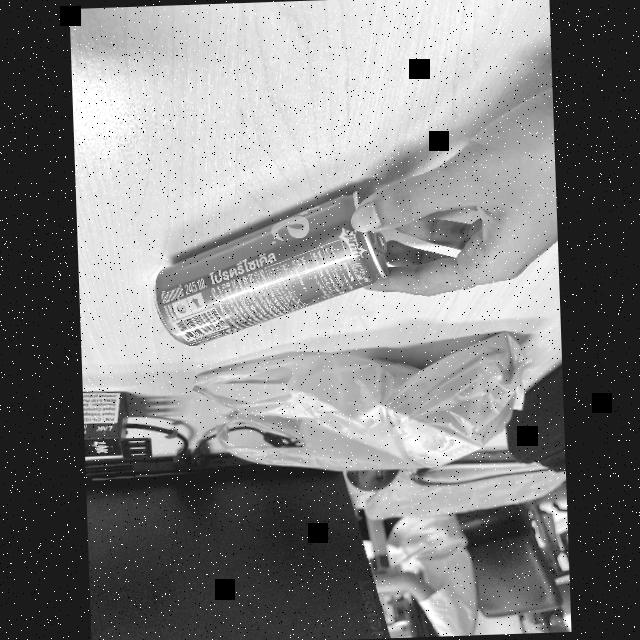can: (144, 190, 406, 349)
